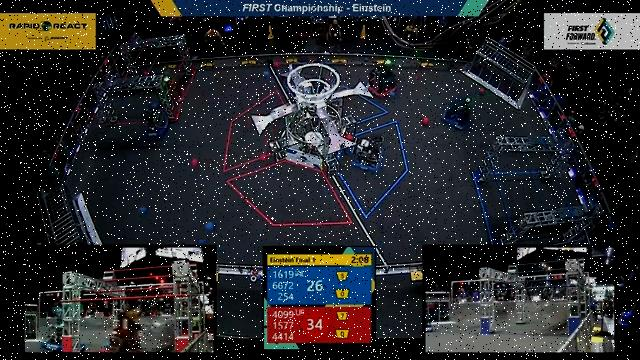Robot: (347, 136, 391, 185), (361, 63, 401, 103), (438, 93, 474, 135), (137, 105, 173, 141), (153, 73, 189, 107)
